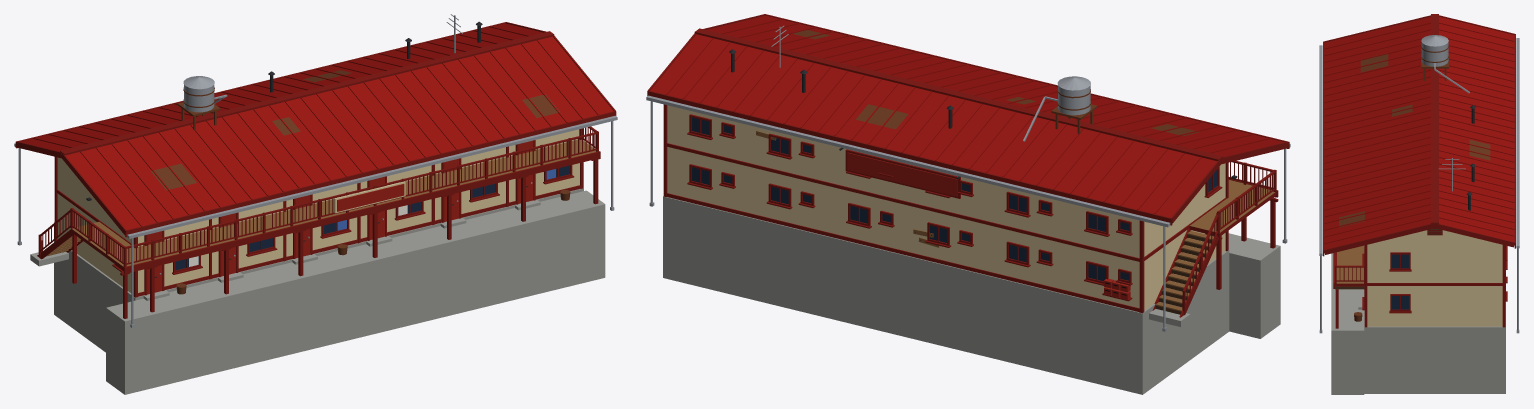
File: SM_Slifer_Main.fbx
The picture shows the model from 3 angles, left to right: view 1: azimuth 30°, elevation 25°; view 2: azimuth 150°, elevation 25°; view 3: azimuth 270°, elevation 25°; orthographic projection. The views are drawn at different scales.
Parts seen in each view (by area): view 1: SM_Slifer_Main; view 2: SM_Slifer_Main; view 3: SM_Slifer_Main.
Part boxes in pixels (left/top/right/bottom): SM_Slifer_Main: left=14, top=14, right=617, bottom=394; SM_Slifer_Main: left=646, top=14, right=1290, bottom=394; SM_Slifer_Main: left=1319, top=14, right=1519, bottom=394.
Bounding box in the file's own units: 28.64 × 13.48 × 11.6.
